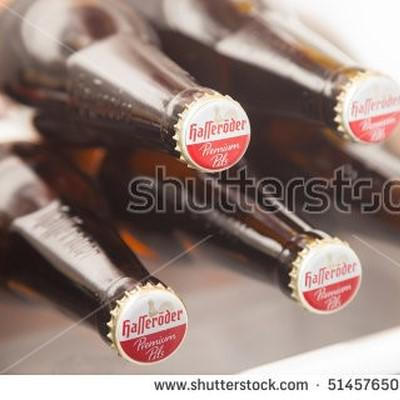beer: (1, 3, 398, 361)
